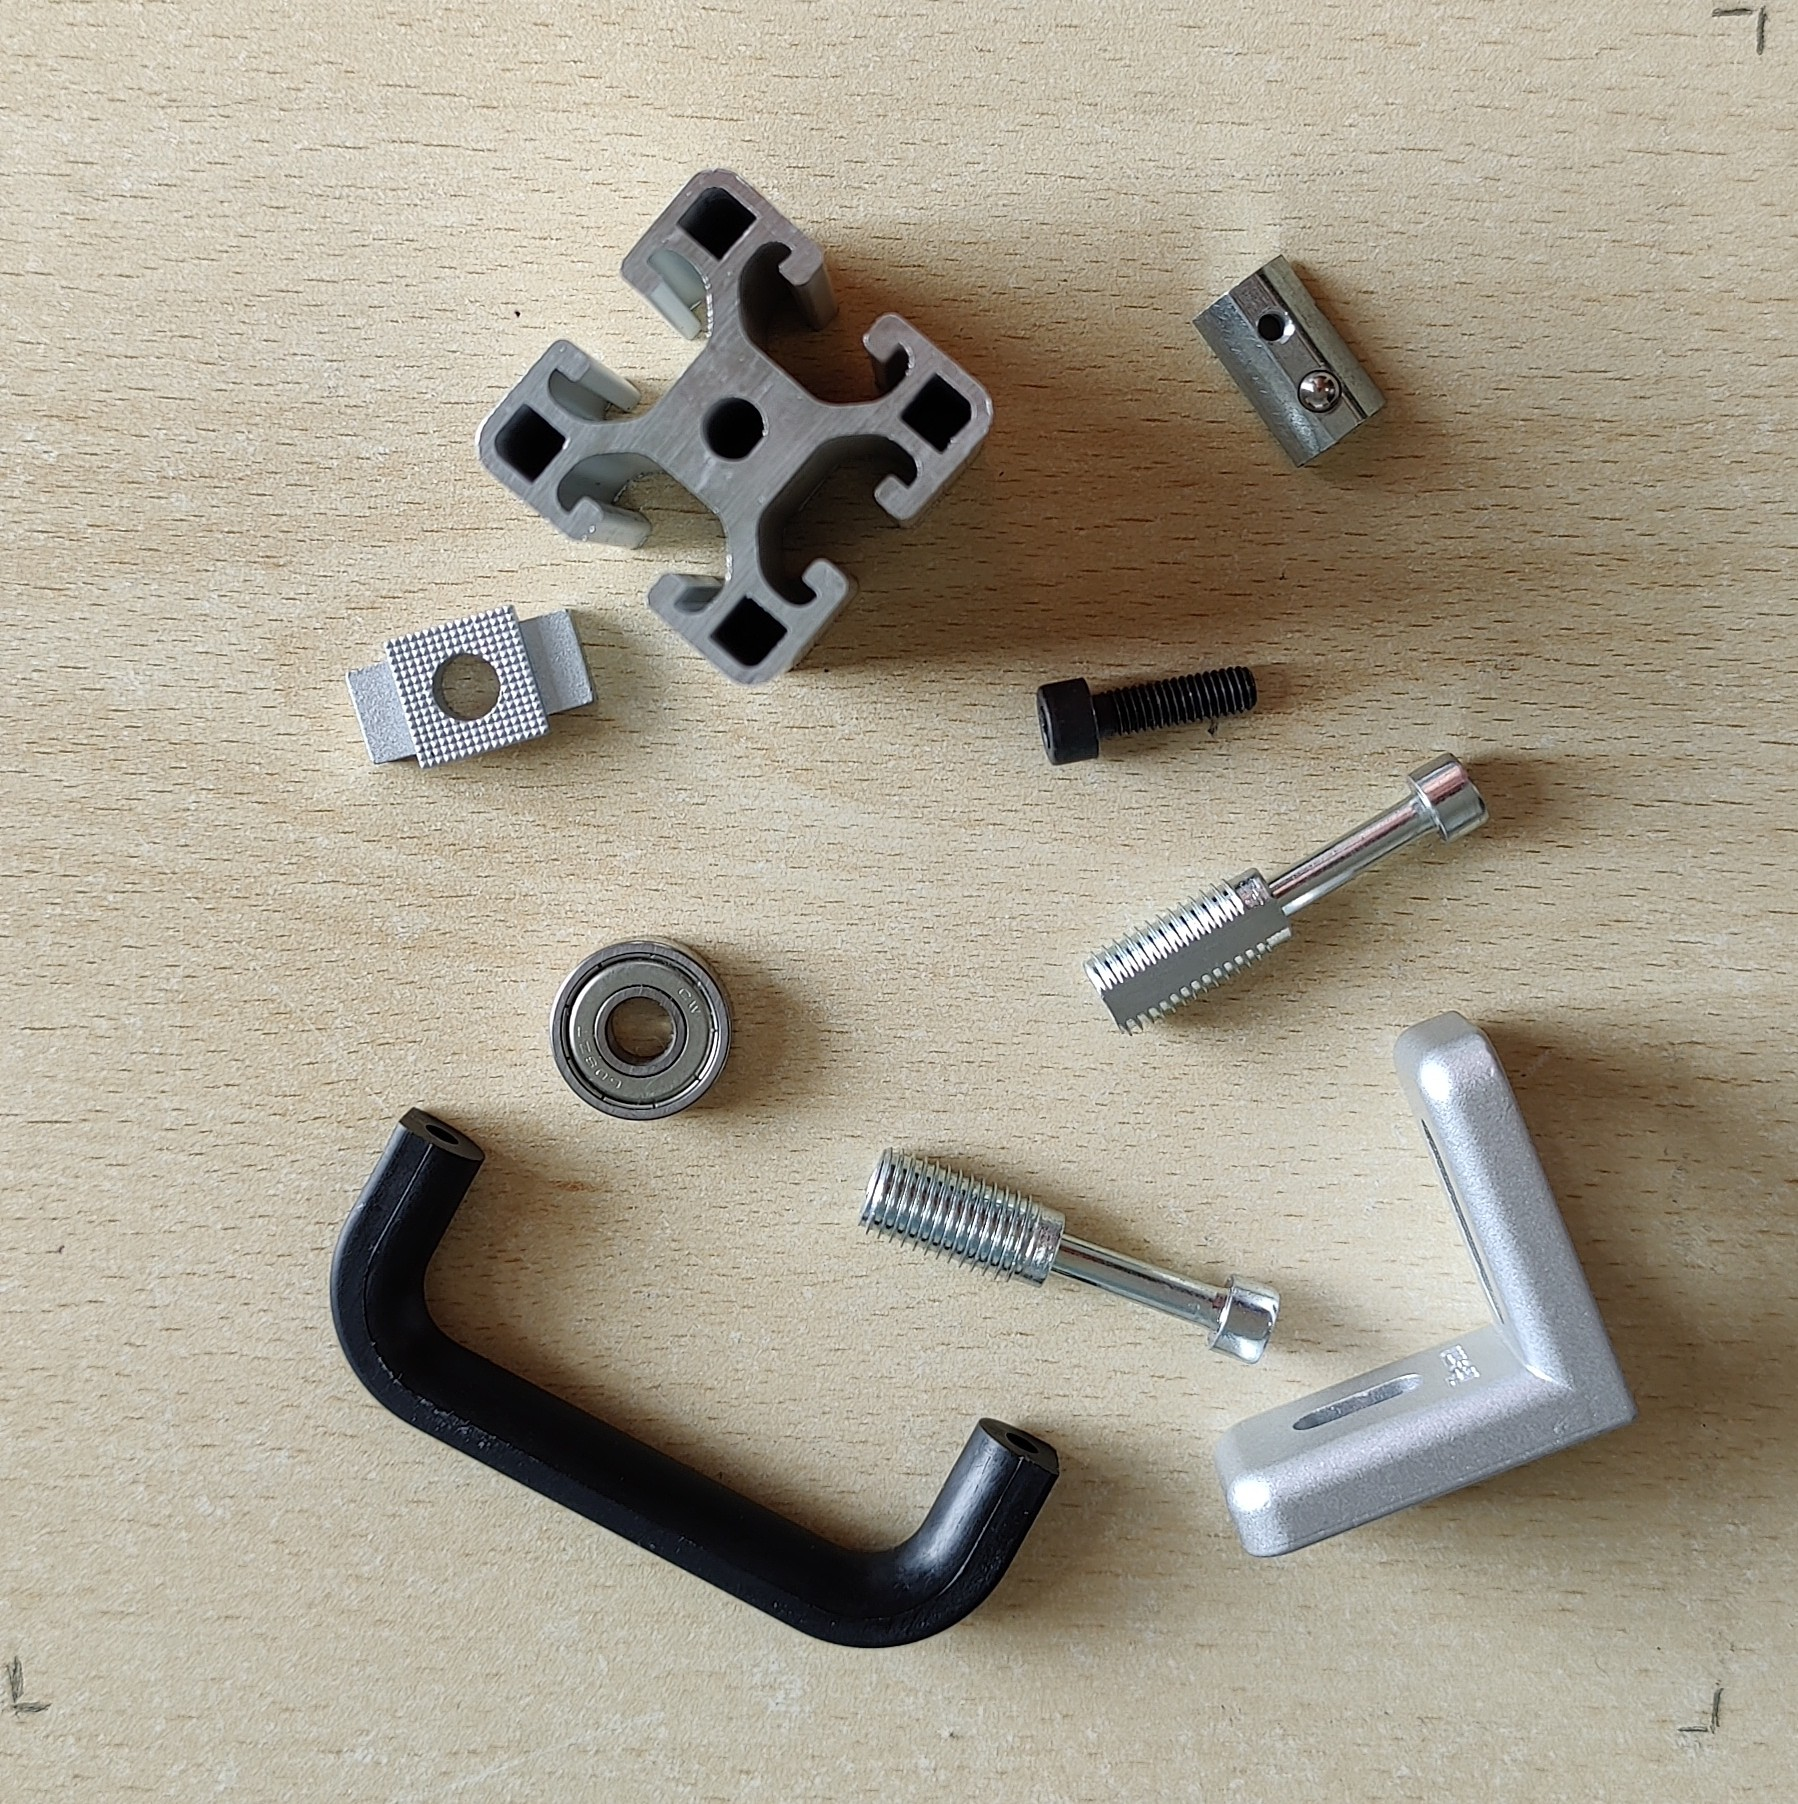Aluminium Extension: (476, 166, 998, 688)
Ball Bearing: (548, 937, 738, 1123)
Multiwinkel: (1213, 1007, 1642, 1560)
Pull Handle: (328, 1100, 1062, 1653)
Shoulder Socket Head Cap Screw: (1082, 747, 1492, 1040), (851, 1141, 1288, 1368)
Socket Head Cap Screw: (1036, 658, 1260, 769)
T Nut Square: (341, 599, 603, 774)
T Spring Nut: (1190, 252, 1390, 471)
